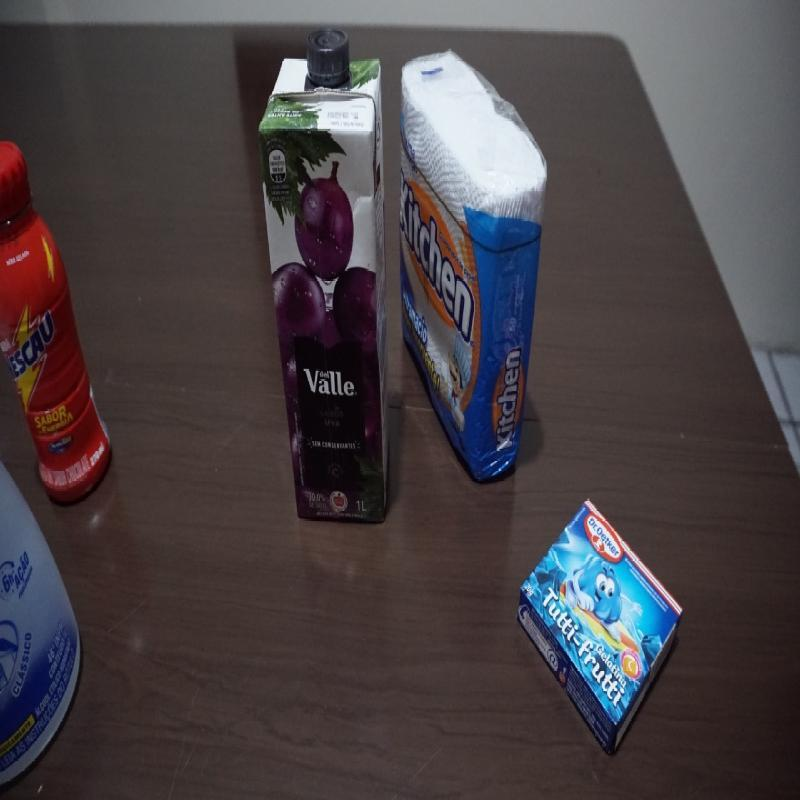Alcohol Bottle: (1, 453, 84, 795)
Chocolate Milk: (0, 130, 112, 509)
Gelatine: (518, 498, 684, 754)
Napkin: (399, 47, 548, 482)
